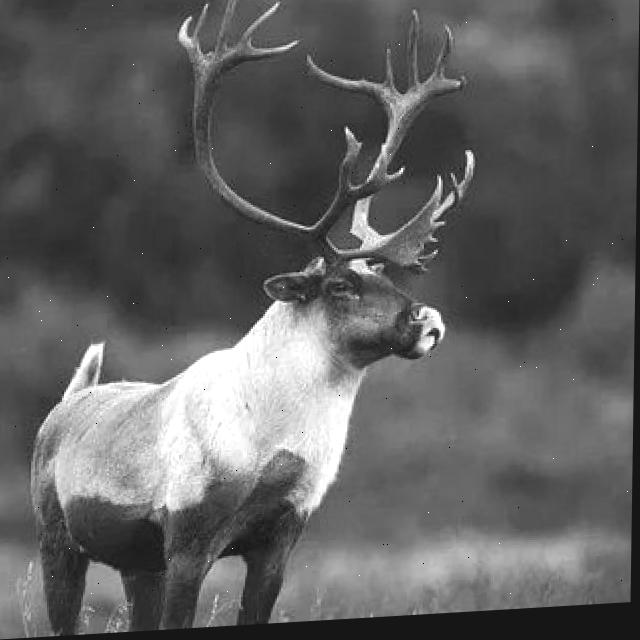Deer: (33, 75, 532, 607)
